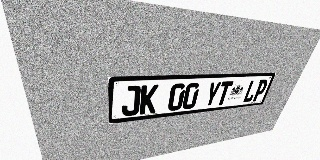0: (181, 82, 201, 110), (167, 83, 186, 111)
J: (121, 85, 141, 117)
K: (139, 84, 159, 115)
L: (242, 80, 260, 103)
P: (251, 79, 269, 102)
T: (215, 81, 234, 106)
Y: (203, 81, 222, 107)
